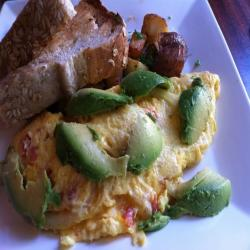bread: (4, 2, 136, 116)
omelette: (11, 69, 238, 245)
